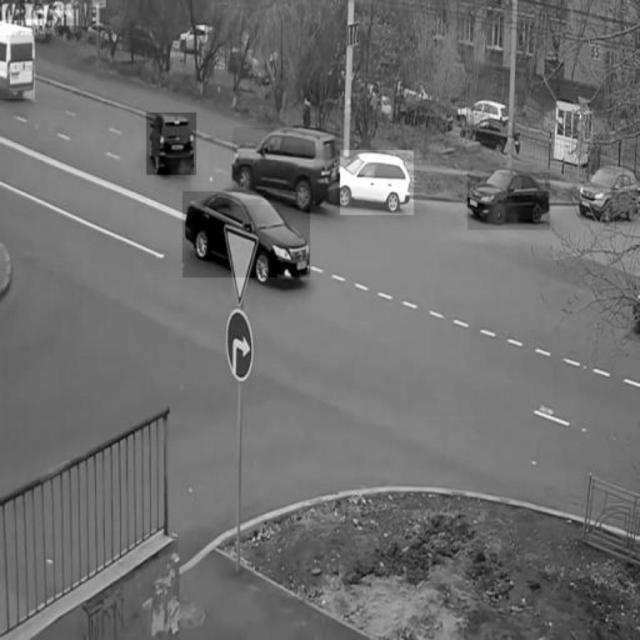vehicle: (182, 192, 310, 278), (233, 128, 341, 205), (467, 173, 549, 230), (341, 151, 414, 215), (578, 163, 639, 220), (147, 113, 197, 175), (1, 20, 36, 98)
